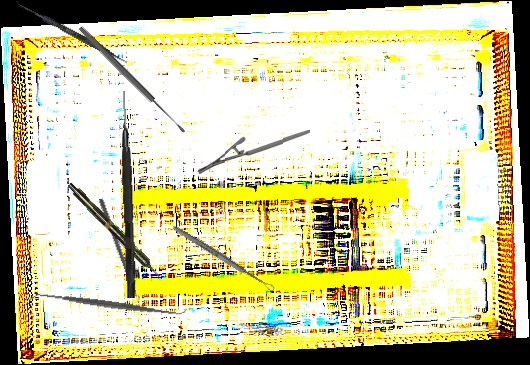Handpiece: (65, 180, 164, 282)
Hook Surgical: (116, 90, 139, 299)
Needle Holder: (197, 130, 311, 174)
Pusher: (97, 198, 144, 312)
Spatula Surgical: (13, 0, 130, 65), (28, 285, 188, 324)
Surgical Spoon: (76, 24, 188, 136), (171, 224, 276, 293)
